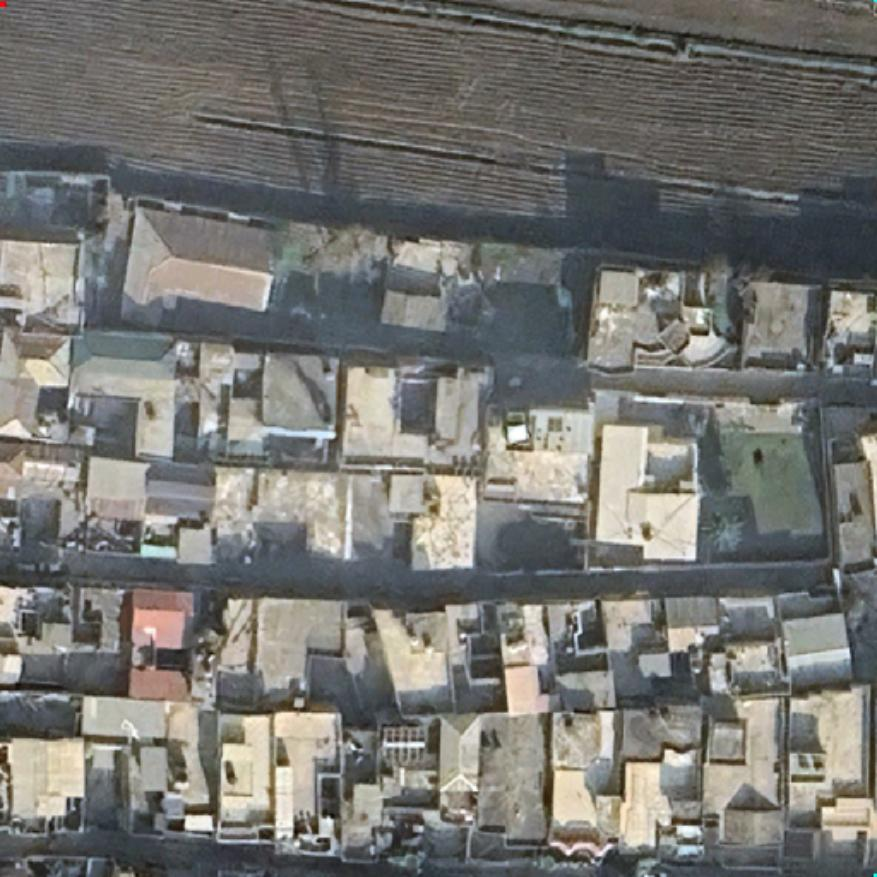Solarpanel: (380, 722, 428, 746), (390, 748, 428, 767)
